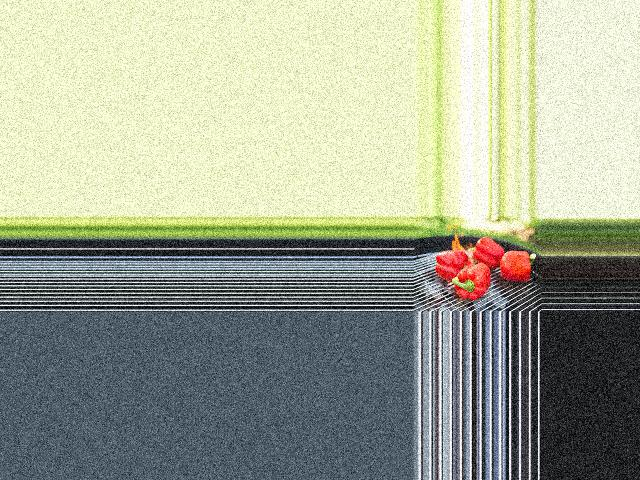bell_pepper: (434, 248, 470, 279)
